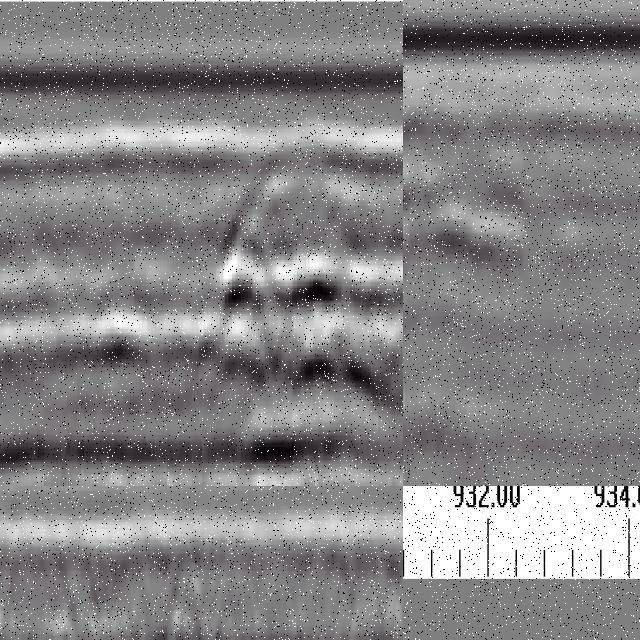loose: (203, 210, 404, 402), (404, 112, 608, 276)
